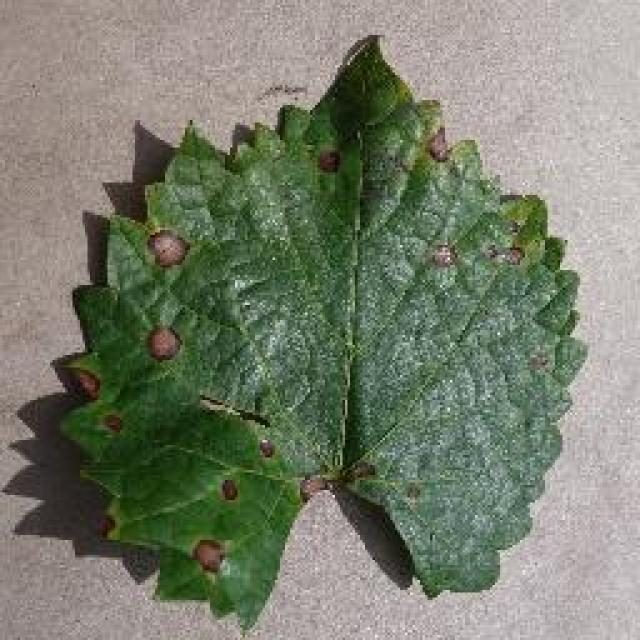Grape___Black_rot: (51, 31, 594, 638)
